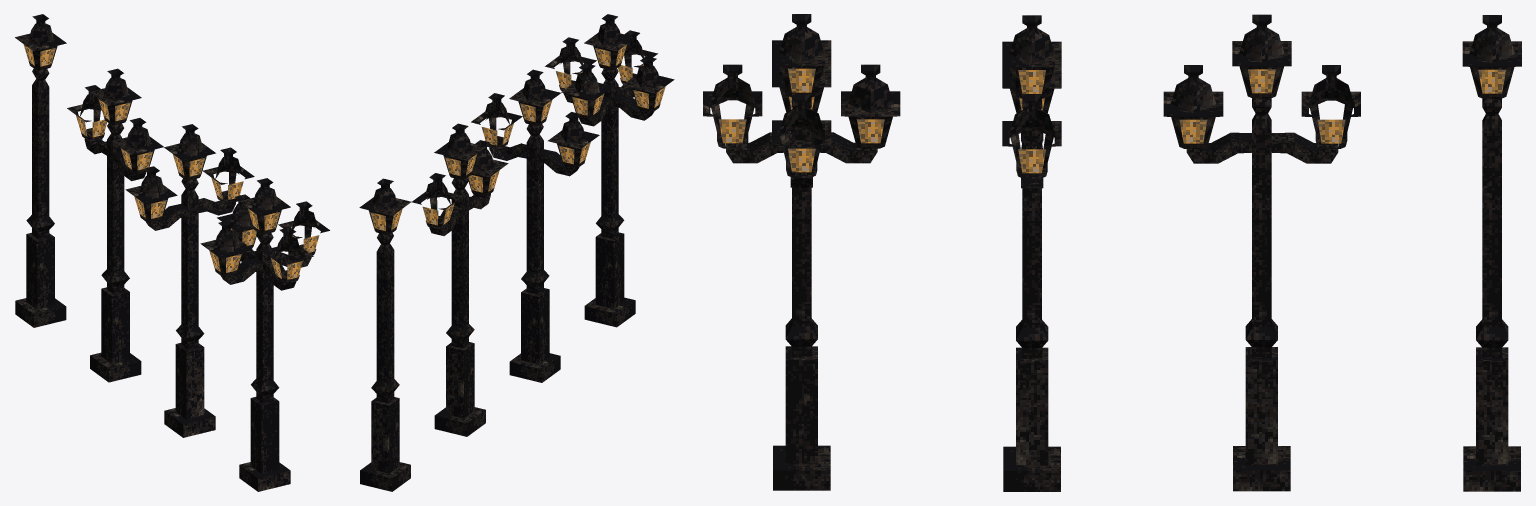
File: luces_centered.glb
3 views of the same model, side by side, from view 1: azimuth 30°, elevation 25°; view 2: azimuth 150°, elevation 25°; view 3: azimuth 270°, elevation 25° (orthographic). The views are drawn at different scales.
Visible parts, largest first — view 1: faro3, faro2alt, faro2, faro; view 2: faro3, faro2alt, faro2, faro; view 3: faro3, faro2, faro2alt, faro.
Part boxes in pixels (x1,y1,x2,y2): faro3: (200,178,329,491); faro2alt: (125,124,254,437); faro2: (67,68,163,382); faro: (15,14,66,327); faro3: (545,14,674,327); faro2alt: (471,69,599,382); faro2: (411,123,508,436); faro: (359,178,411,491); faro3: (703,14,900,490); faro2: (1163,14,1360,491); faro2alt: (1002,15,1061,491); faro: (1462,15,1521,491).
Size of what is drawn, in the model's own units: 1.71 by 4.42 by 7.11.
Materials: 2 (2 with a texture image).
